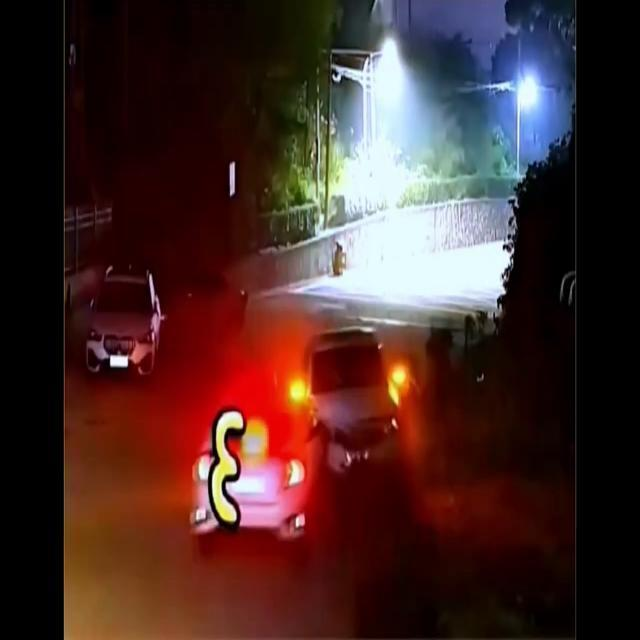accident: (193, 331, 397, 535)
